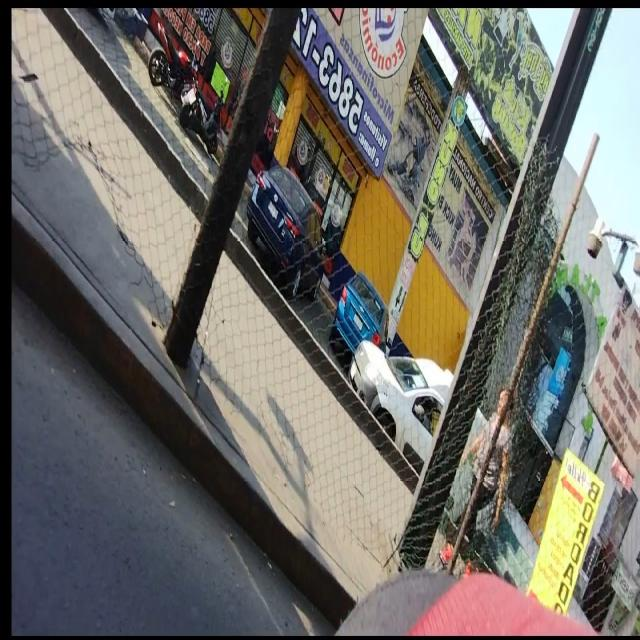adult: (440, 387, 513, 583)
